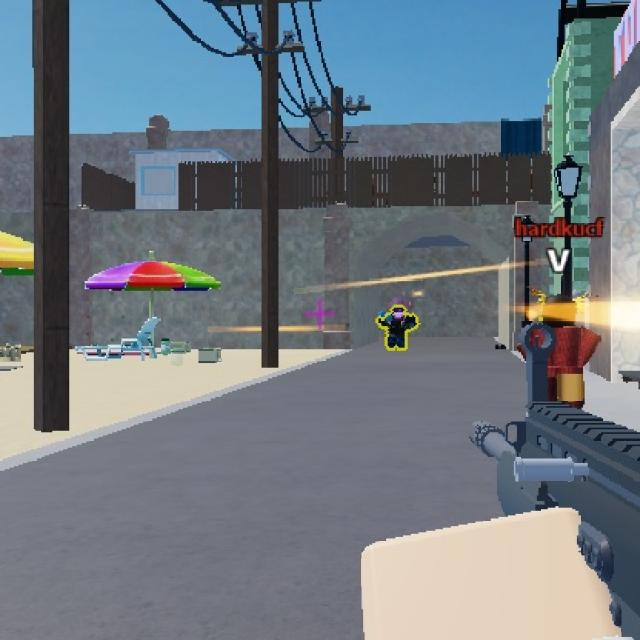player: (379, 305, 414, 350)
